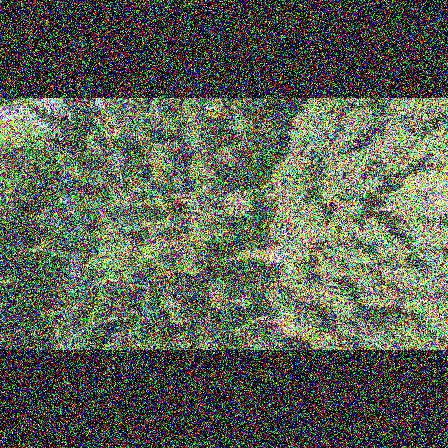Sick: (222, 186, 256, 219), (202, 203, 228, 226), (64, 200, 84, 220)
